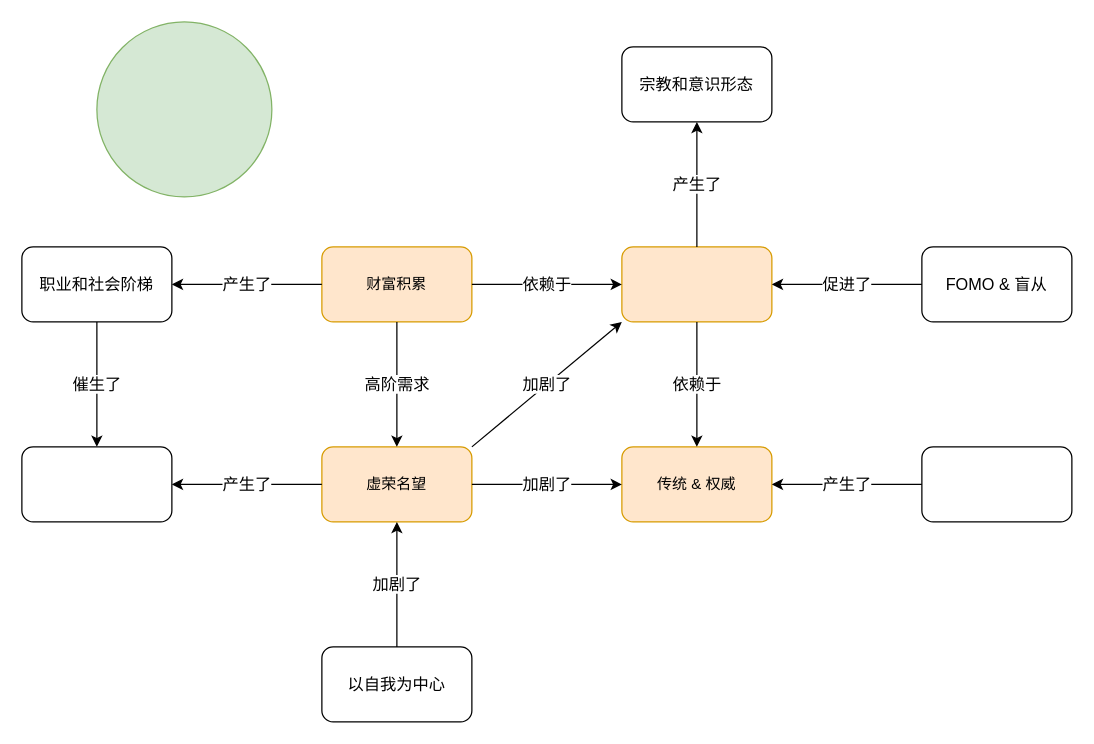
Image size: 1094x744. Some labels were removed from this diagram. Each missing label, with the centre of its shape:
标签化思考: point 996,484
狭隘浅薄之害: point 184,109
社达主义: point 96,484
集体的奴役: point 696,284
